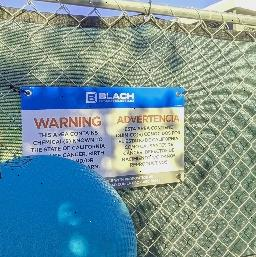algae: (0, 153, 140, 257)
